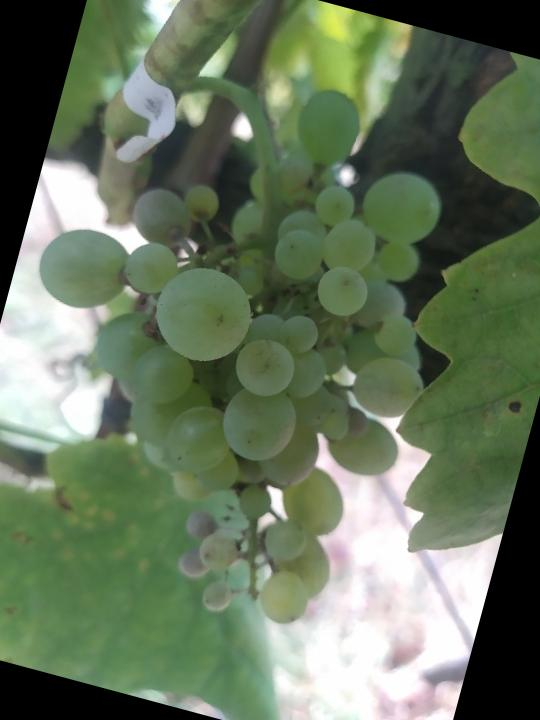grape: (0, 24, 498, 654)
